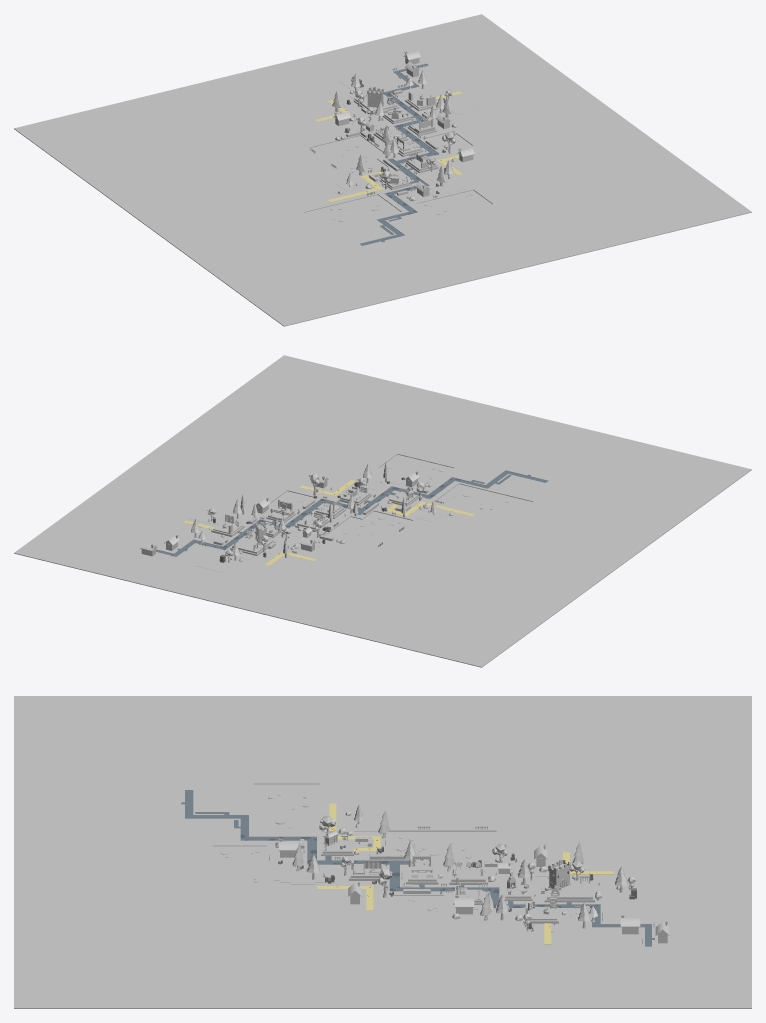
Rendered from Iso Layout Animation V11_Test_Unity.fbx.
3 renders of one model, top to bottom at view 1: azimuth 30°, elevation 25°; view 2: azimuth 150°, elevation 25°; view 3: azimuth 270°, elevation 25°, orthographic. The views are drawn at different scales.
Parts seen in each view (by area): view 1: Ground, Road_New_Version, Cube_49, Pond_2, Cube_5_4, Cube_48; view 2: Ground, Road_New_Version, Cube_49, Pond_2, Cube_5_4; view 3: Ground, Road_New_Version, Cube_49, Pond_2, Cube_5_4, Cube_48, Cube_1_43, Plane_6, Cube_43, Plane_7, Commander_Top_Platform, Cube_5_3 (+1 smaller).
Part boxes in pixels (bbox=[...]): Ground: bbox=[14, 14, 751, 326]; Road_New_Version: bbox=[360, 64, 437, 245]; Cube_49: bbox=[309, 197, 395, 228]; Pond_2: bbox=[314, 136, 386, 175]; Cube_5_4: bbox=[324, 202, 380, 222]; Cube_48: bbox=[421, 192, 487, 216]; Ground: bbox=[14, 355, 751, 667]; Road_New_Version: bbox=[156, 470, 547, 556]; Cube_49: bbox=[441, 486, 527, 517]; Pond_2: bbox=[325, 512, 408, 547]; Cube_5_4: bbox=[455, 492, 512, 511]; Ground: bbox=[14, 696, 751, 1008]; Road_New_Version: bbox=[181, 790, 654, 946]; Cube_49: bbox=[259, 786, 313, 831]; Pond_2: bbox=[391, 833, 496, 863]; Cube_5_4: bbox=[270, 793, 303, 823]; Cube_48: bbox=[217, 849, 261, 883]; Cube_1_43: bbox=[487, 927, 536, 944]; Plane_6: bbox=[435, 836, 481, 859]; Cube_43: bbox=[616, 891, 664, 908]; Plane_7: bbox=[401, 836, 447, 852]; Commander_Top_Platform: bbox=[547, 880, 592, 899]; Cube_5_3: bbox=[225, 855, 254, 876].
Size of what is drawn, in the model's own units: 1636 by 91.12 by 1636.
